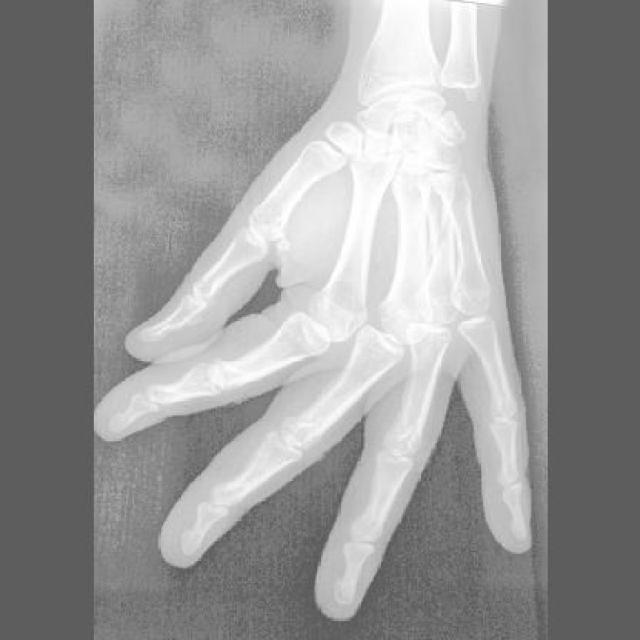Fracture: (425, 200, 456, 259)
